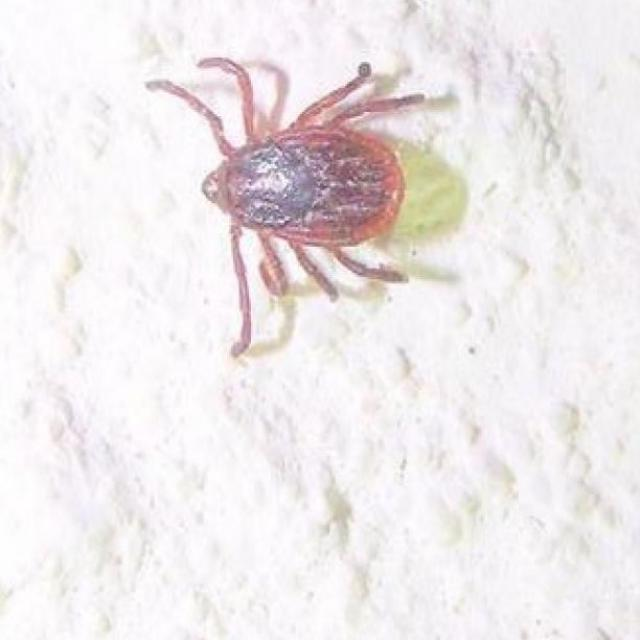Rhipicephalus Sanguineus-F: (145, 58, 424, 357)
